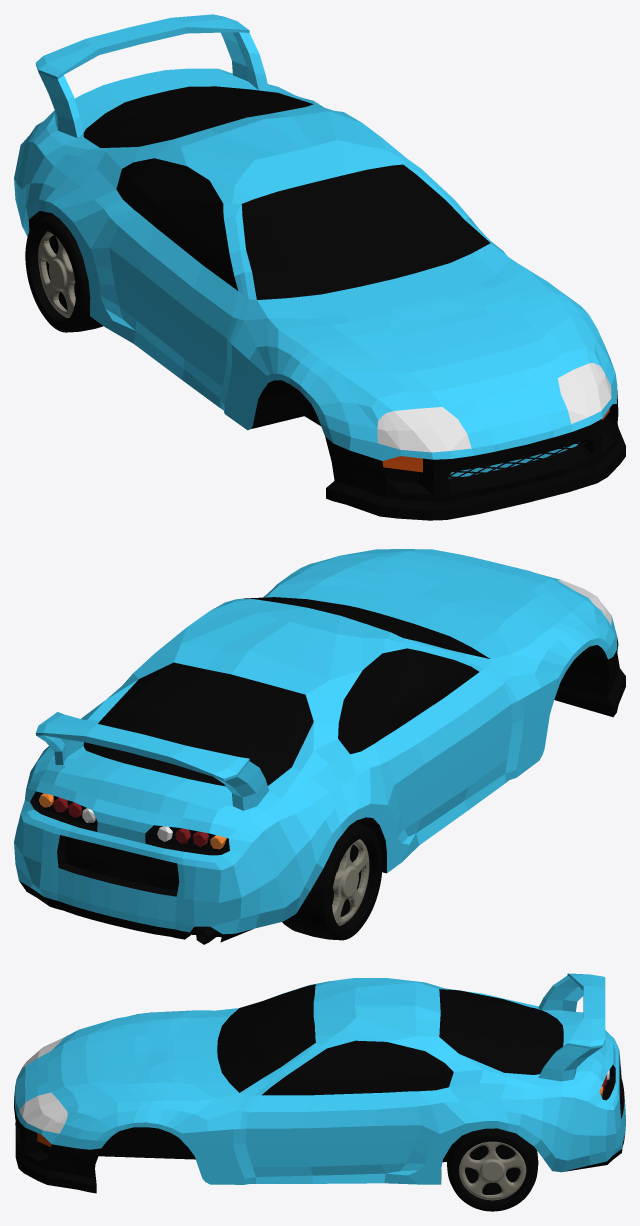
File: supra.fbx
3 views of the same model, one above another, from view 1: azimuth 30°, elevation 25°; view 2: azimuth 150°, elevation 25°; view 3: azimuth 270°, elevation 25° (orthographic). The views are drawn at different scales.
Visible parts, largest first — view 1: SUPRA, DreaptaSpate(Supra); view 2: SUPRA, DreaptaSpate(Supra); view 3: SUPRA, StangaSpate(Supra).
Boxes of the visible parts, left/top/right/bottom form: SUPRA: left=14, top=14, right=625, bottom=520; DreaptaSpate(Supra): left=25, top=213, right=103, bottom=332; SUPRA: left=14, top=549, right=625, bottom=944; DreaptaSpate(Supra): left=282, top=821, right=382, bottom=940; SUPRA: left=14, top=973, right=625, bottom=1193; StangaSpate(Supra): left=447, top=1128, right=538, bottom=1211.
Size of the model in its own units: 1.78 by 1.21 by 4.22.
